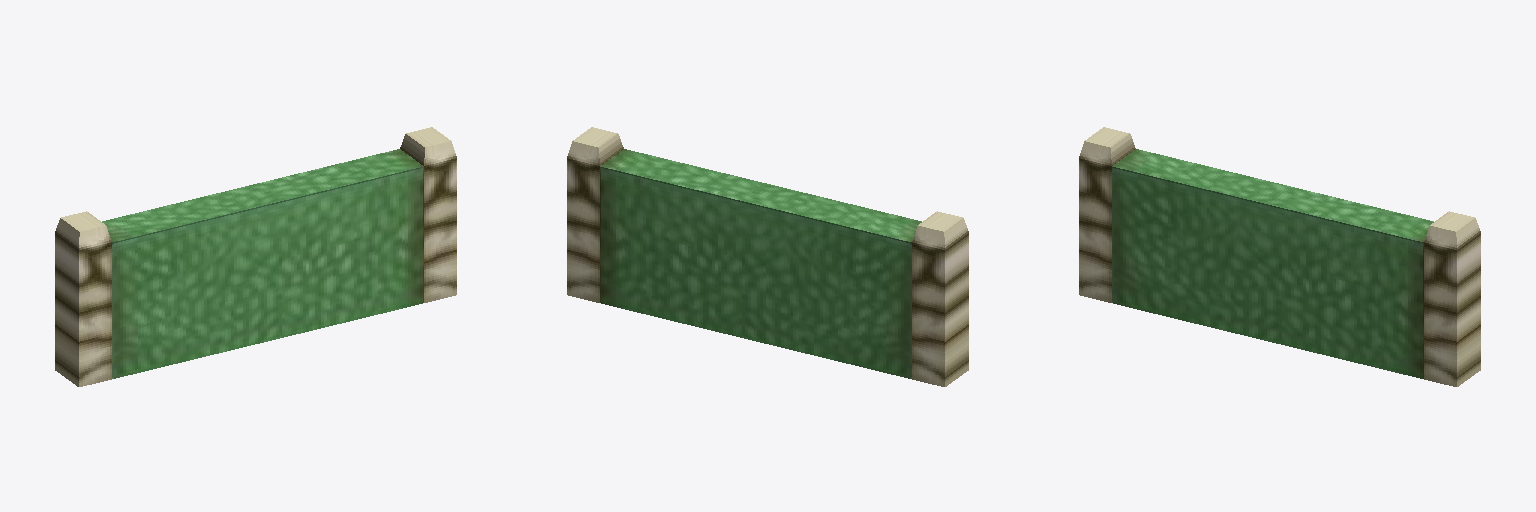
The picture shows the model from 3 angles: view 1: azimuth 30°, elevation 25°; view 2: azimuth 150°, elevation 25°; view 3: azimuth 330°, elevation 25°; orthographic projection.
Visible parts, largest first — view 1: mesh01; view 2: mesh01; view 3: mesh01.
Boxes of the visible parts, x1,y1,x2,y2 form: mesh01: [55, 127, 456, 386]; mesh01: [567, 127, 968, 386]; mesh01: [1079, 127, 1480, 386].
Size of the model in its own units: 45.93 by 17.76 by 5.08.
1 materials, 1 textured.